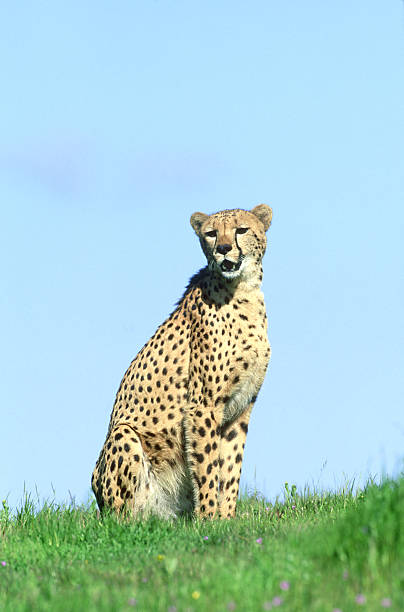cheetah: (176, 191, 281, 287)
